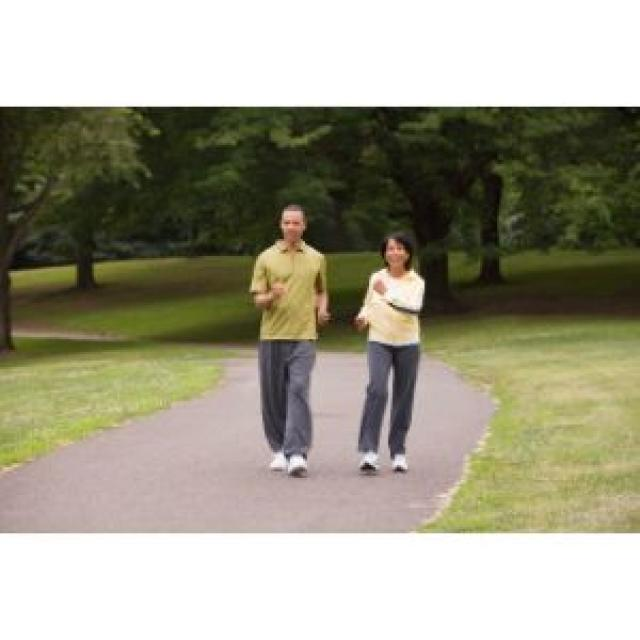nonfall: (241, 192, 342, 482), (356, 233, 443, 480)
